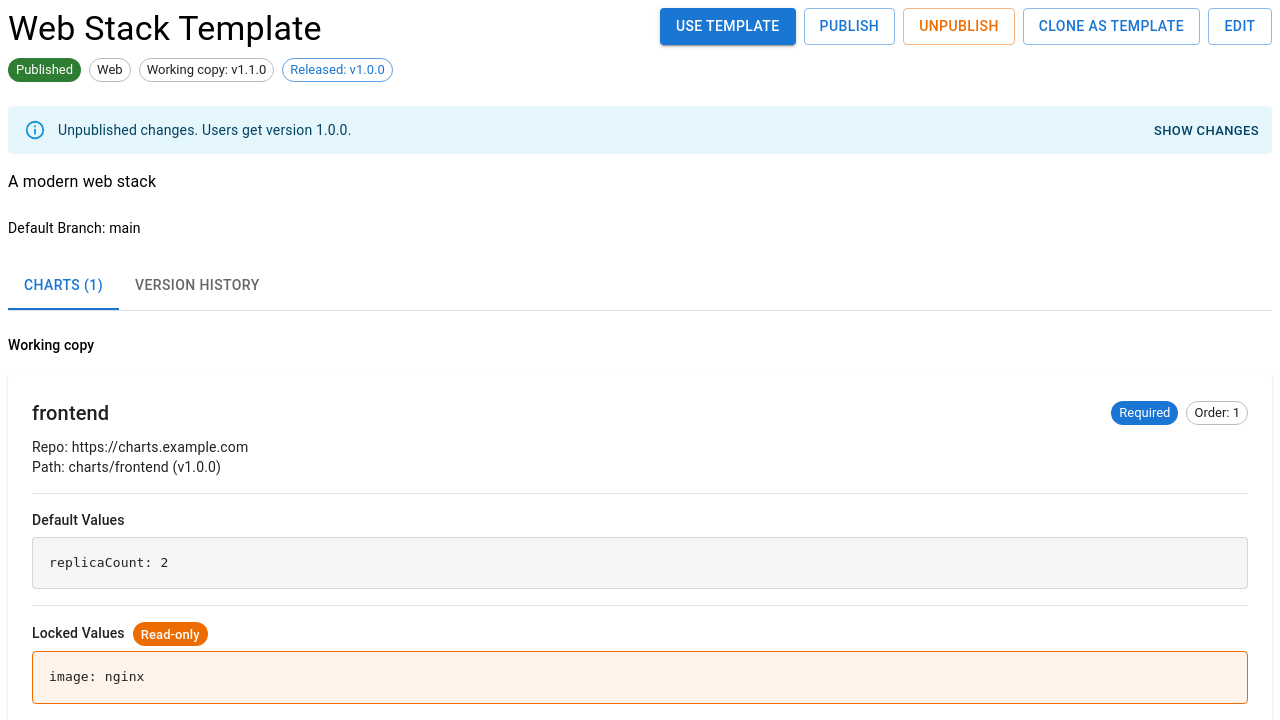
Test case: Templates Preview › shows changed template fields in the changes dialog (#499)
The width and height of the screenshot is (1280, 720).
Click the button "Show changes" at (1206, 131), box [1149,116,1264,147]
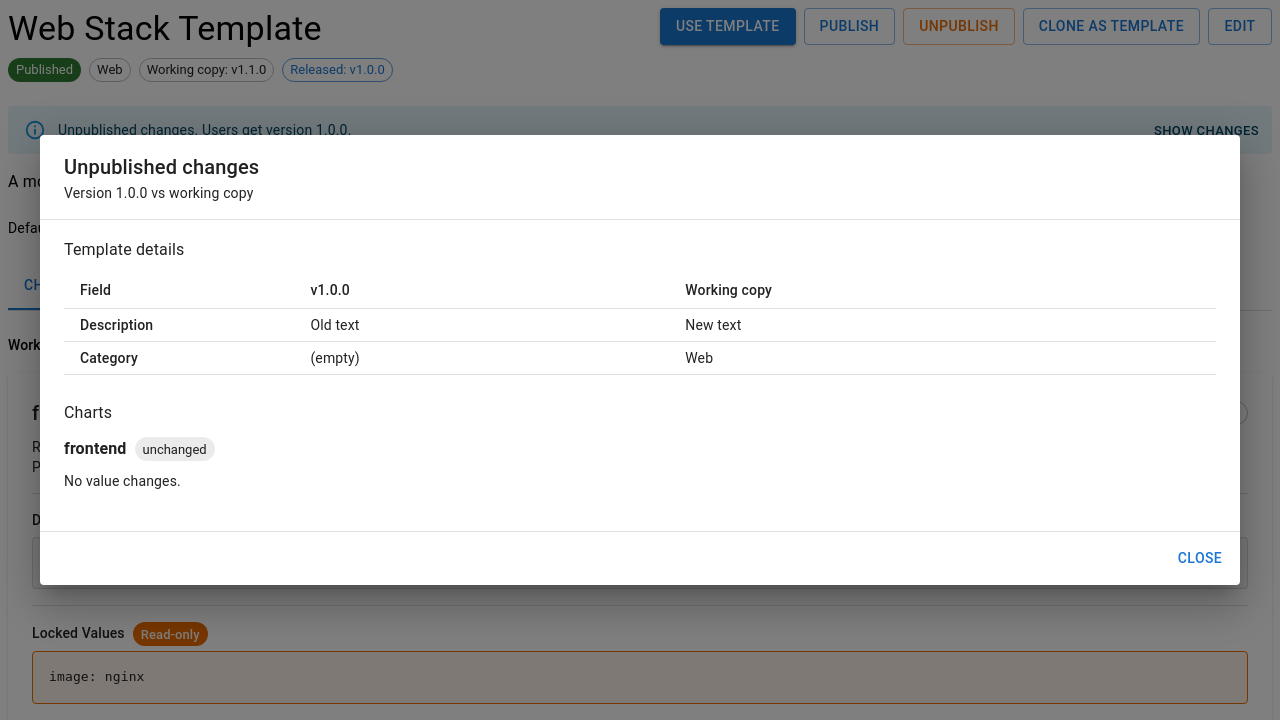
Expected: the text "Old text" is shown, [294,309,669,342]
Expected: the text "New text" is shown, [669,309,1216,342]
Expected: the text "(empty)" is shown, [310,350,360,366]
